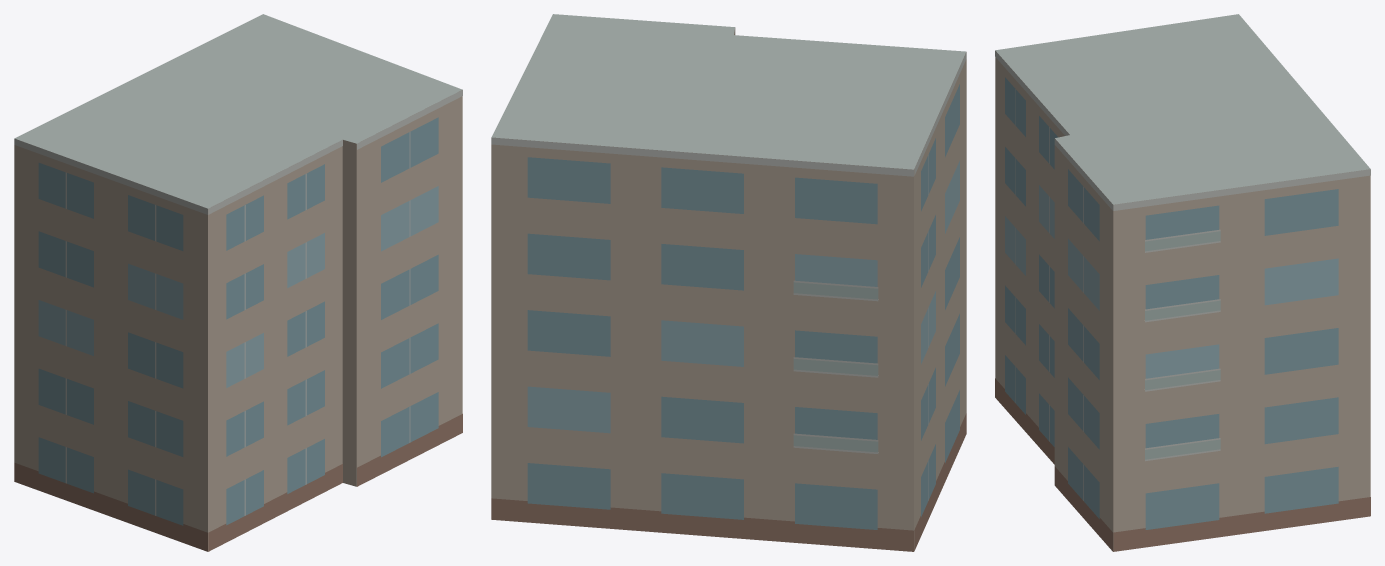
File: survey-upis-32854434.glb
3 views of the same model, side by side, from view 1: azimuth 30°, elevation 25°; view 2: azimuth 150°, elevation 25°; view 3: azimuth 270°, elevation 25° (orthographic). The views are drawn at different scales.
Parts seen in each view (by area): view 1: survey-upis-32854434.tmp; view 2: survey-upis-32854434.tmp; view 3: survey-upis-32854434.tmp.
Part boxes in pixels (left/top/right/bottom): survey-upis-32854434.tmp: left=14, top=14, right=462, bottom=551; survey-upis-32854434.tmp: left=491, top=14, right=966, bottom=551; survey-upis-32854434.tmp: left=995, top=14, right=1370, bottom=551.
Bounding box in the file's own units: 15.56 × 13.2 × 12.96.
